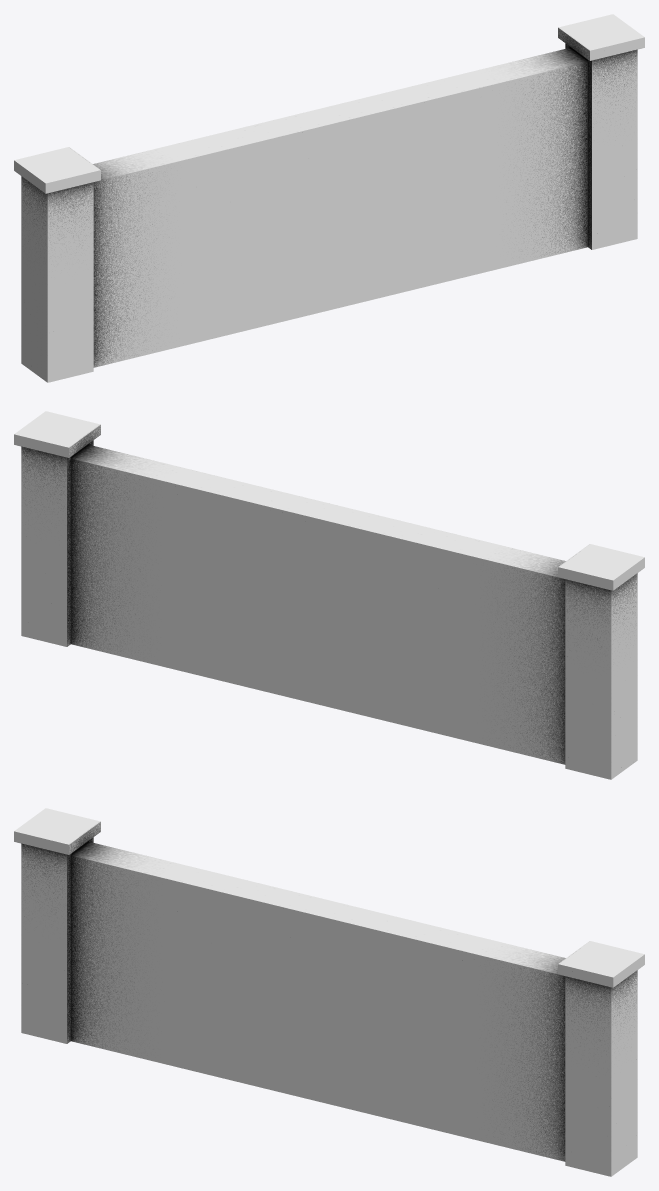
File: muroUVW.FBX
3 renders of one model, top to bottom at view 1: azimuth 30°, elevation 25°; view 2: azimuth 150°, elevation 25°; view 3: azimuth 330°, elevation 25°, orthographic.
Parts seen in each view (by area): view 1: Box001; view 2: Box001; view 3: Box001.
Boxes of the visible parts, x1,y1,x2,y2 form: Box001: (14,14,644,382); Box001: (14,411,644,779); Box001: (14,808,644,1176).
Size of the model in its own units: 91.55 by 29.56 by 8.41.
